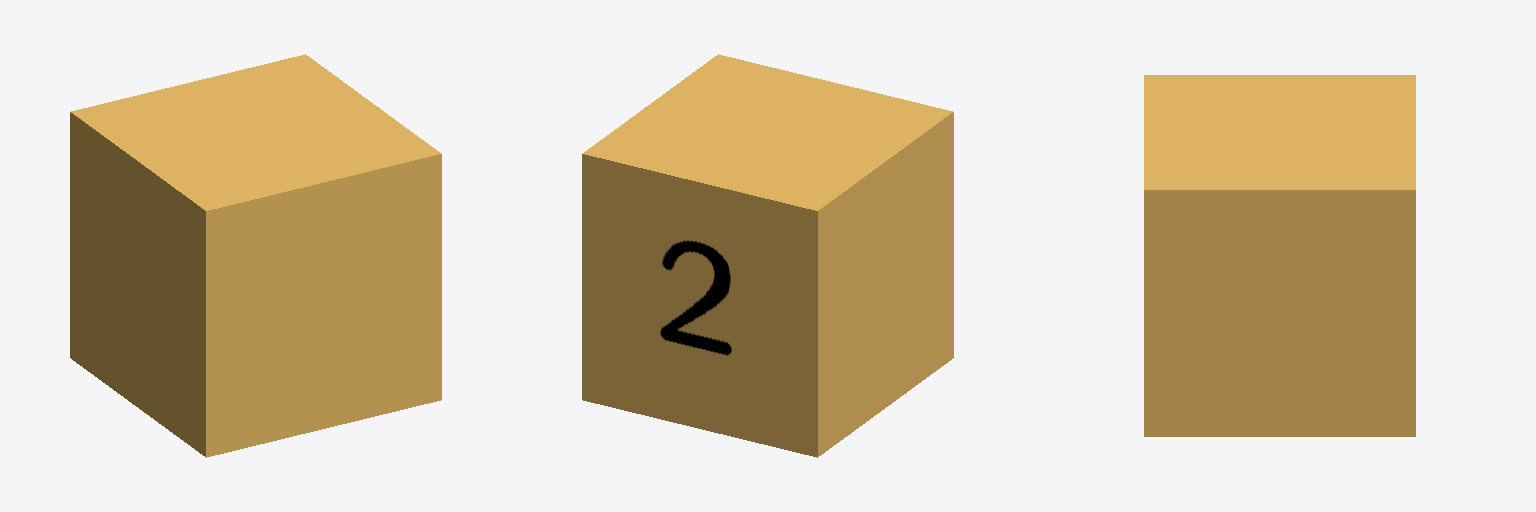
3 renders of one model, left to right at view 1: azimuth 30°, elevation 25°; view 2: azimuth 150°, elevation 25°; view 3: azimuth 270°, elevation 25°, orthographic.
Parts seen in each view (by area): view 1: Cube; view 2: Cube; view 3: Cube.
Boxes of the visible parts, x1=… form: Cube: x1=70, y1=54, x2=441, y2=457; Cube: x1=582, y1=54, x2=953, y2=457; Cube: x1=1144, y1=75, x2=1415, y2=436.
Bounding box in the file's own units: 6 × 6 × 6.
1 materials, 1 textured.